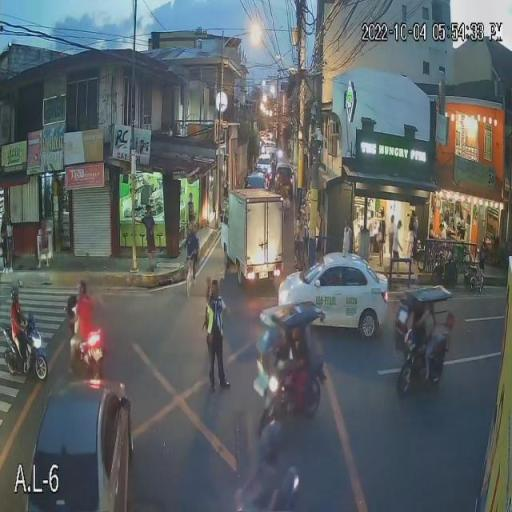helmet: (76, 277, 89, 299), (9, 285, 20, 304)
motorcycle: (64, 291, 105, 379), (0, 321, 48, 380)
rider: (74, 296, 96, 358), (9, 304, 28, 370)
